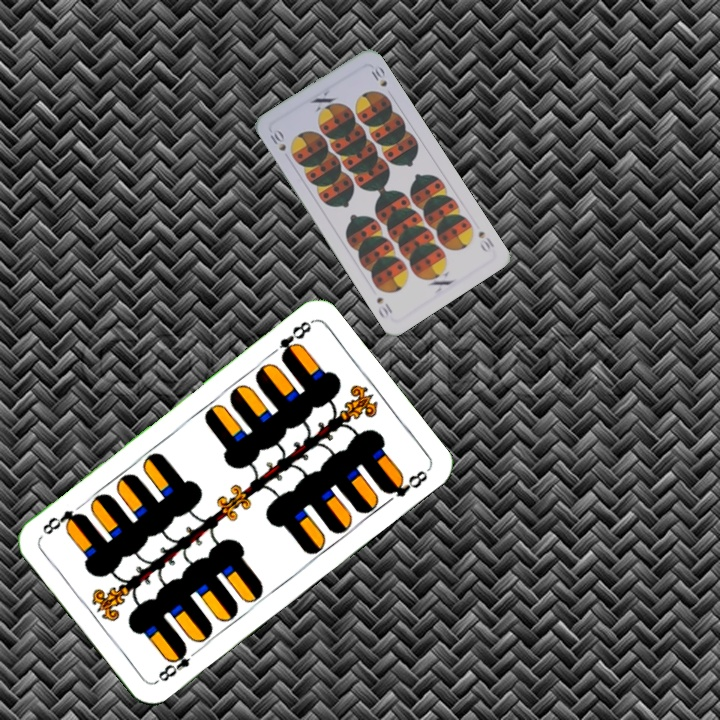E8: (152, 642, 203, 685), (275, 317, 315, 363)
S10: (266, 126, 289, 154), (474, 227, 497, 255)
